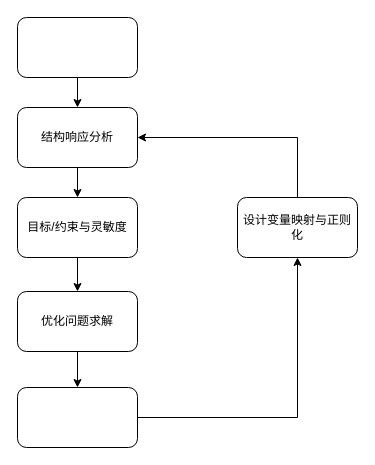
Image size: 375x465. Some labels were removed from this diagram. The centre of each missing label's shape, as x and y in pixels:
"优化模型建立" belongs at pixel 77 47.
"结构拓扑更新" belongs at pixel 77 417.
